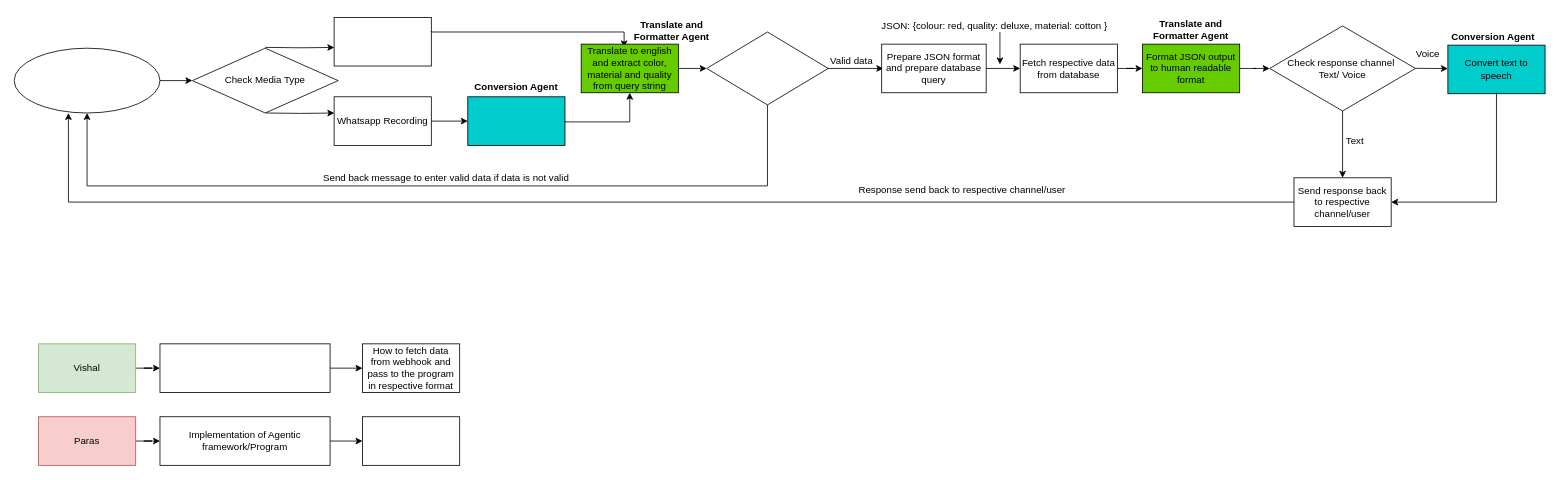
This 1559x480 diagram has some shape labels left out. The box of each missing label's shape, as (x1, y1, x2, y2) in pixels:
Convert speech to text: (467, 96, 565, 145)
Get formatted string and process data: (362, 416, 460, 465)
R&D and Implementatio of API and Webhook: (159, 343, 330, 392)
Start: Dealer initiates inquiry (WhatsApp text or Voice): (13, 47, 160, 113)
Validate parameters: (706, 31, 828, 105)
Whatsapp Text: (333, 17, 431, 66)
